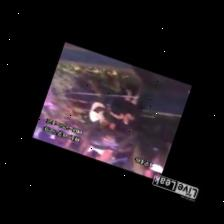person: (104, 74, 126, 130), (88, 79, 107, 127)
